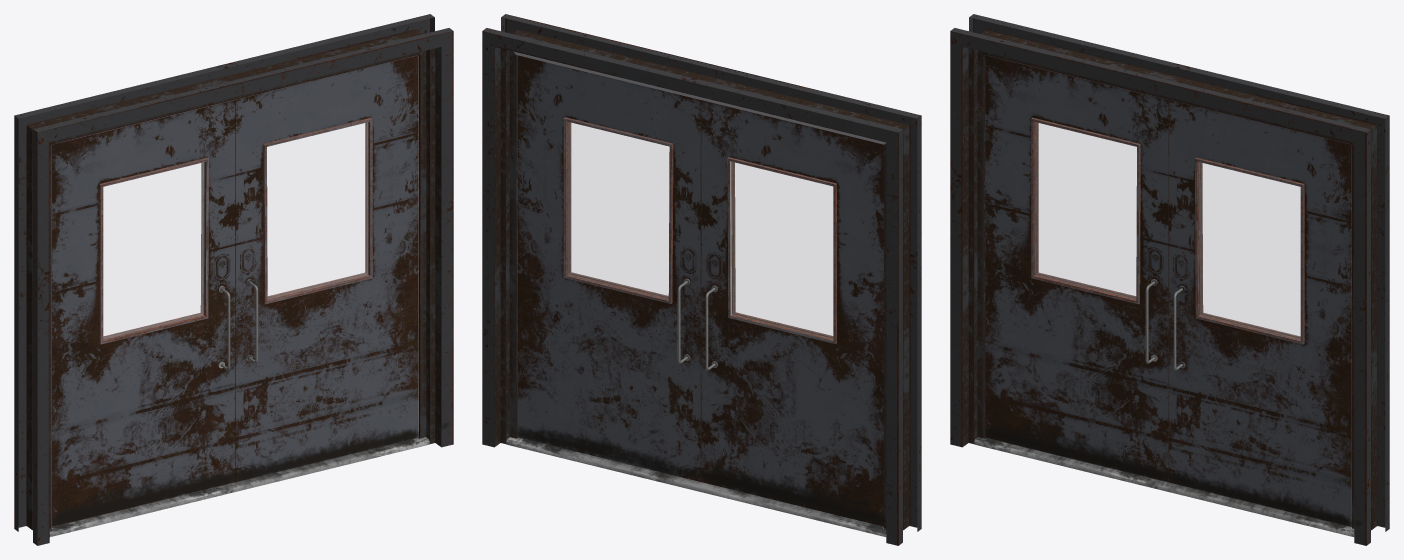
File: door.glb
3 views of the same model, side by side, from view 1: azimuth 30°, elevation 25°; view 2: azimuth 150°, elevation 25°; view 3: azimuth 330°, elevation 25° (orthographic).
Parts seen in each view (by area): view 1: Object_3, Object_4; view 2: Object_3, Object_4; view 3: Object_3, Object_4.
Part boxes in pixels (x1,y1,x2,y2): Object_3: [14, 14, 453, 545]; Object_4: [103, 123, 368, 339]; Object_3: [482, 14, 921, 545]; Object_4: [568, 122, 832, 338]; Object_3: [950, 14, 1389, 545]; Object_4: [1035, 123, 1300, 339].
Size of the model in its own units: 376 by 357 by 36.45.
2 materials, 1 textured.
